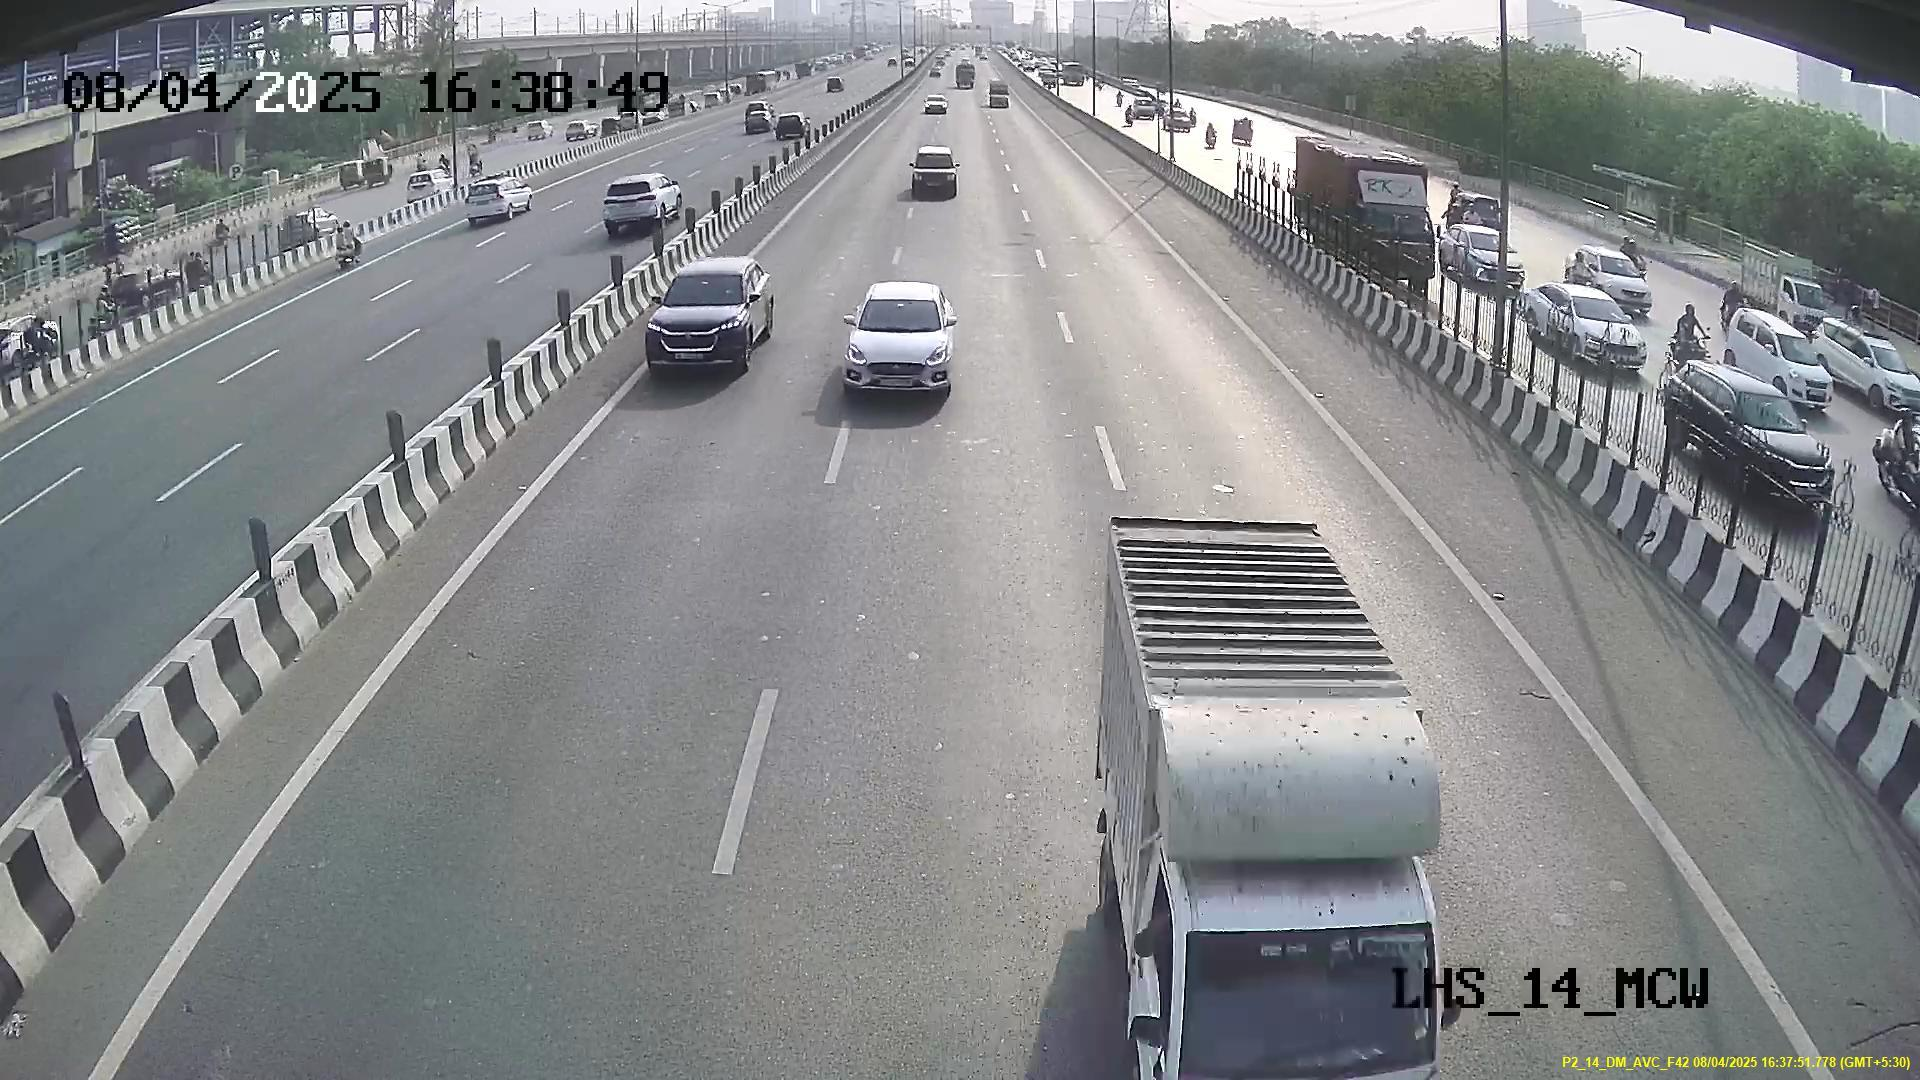car: (634, 261, 771, 378), (837, 286, 960, 401)
